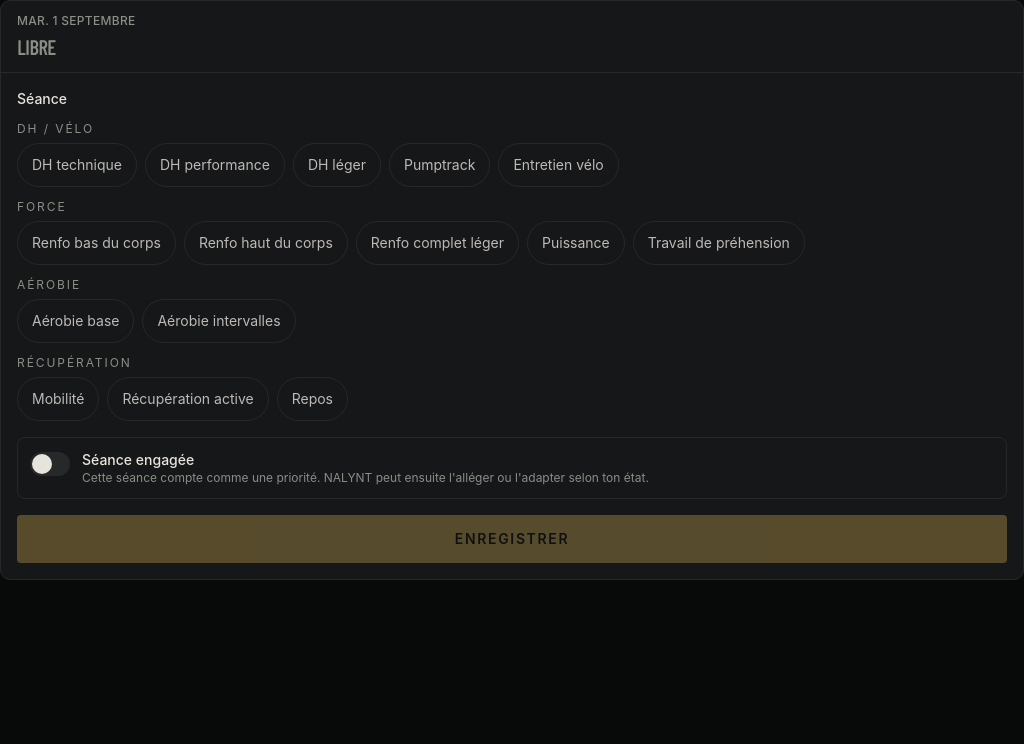
Test case: PlanningDayCard — planned duration (V0.3_006C2 / UX-10B-2B stepper) › shows the Durée prévue control for a DH kind
This screenshot has width=1024, height=744.
Click the button "DH performance". click: (215, 165)
box: [145,143,285,187]
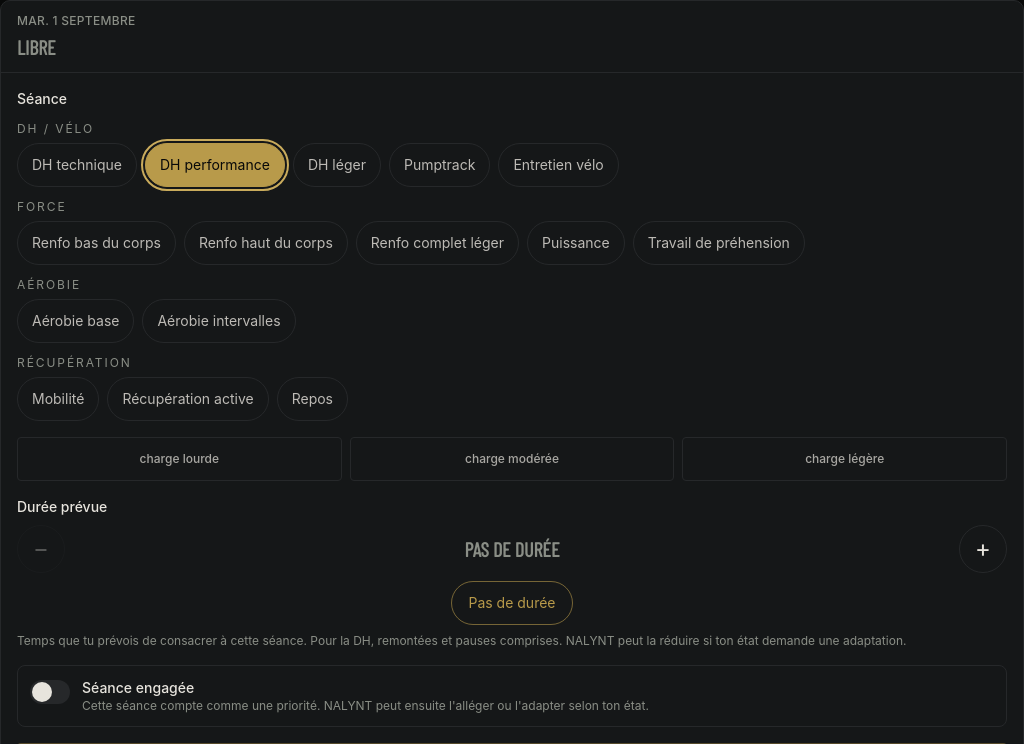
Result: the element "Durée prévue" is shown at [17,497,1007,649]
